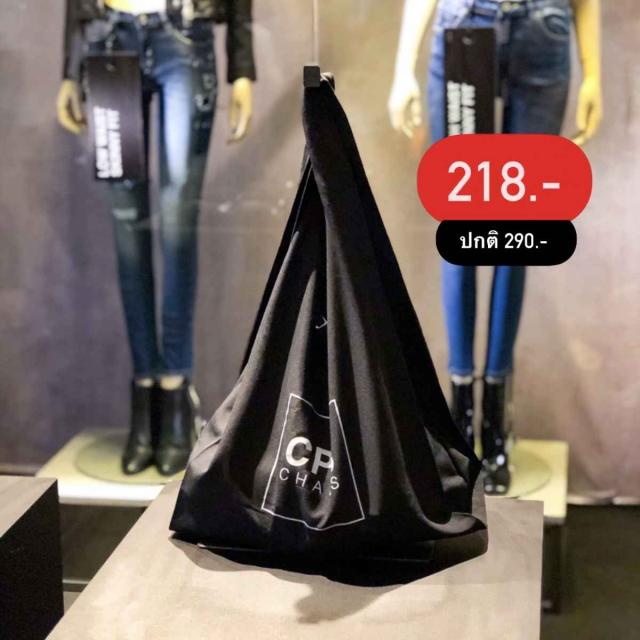Handbag: (171, 68, 489, 587)
